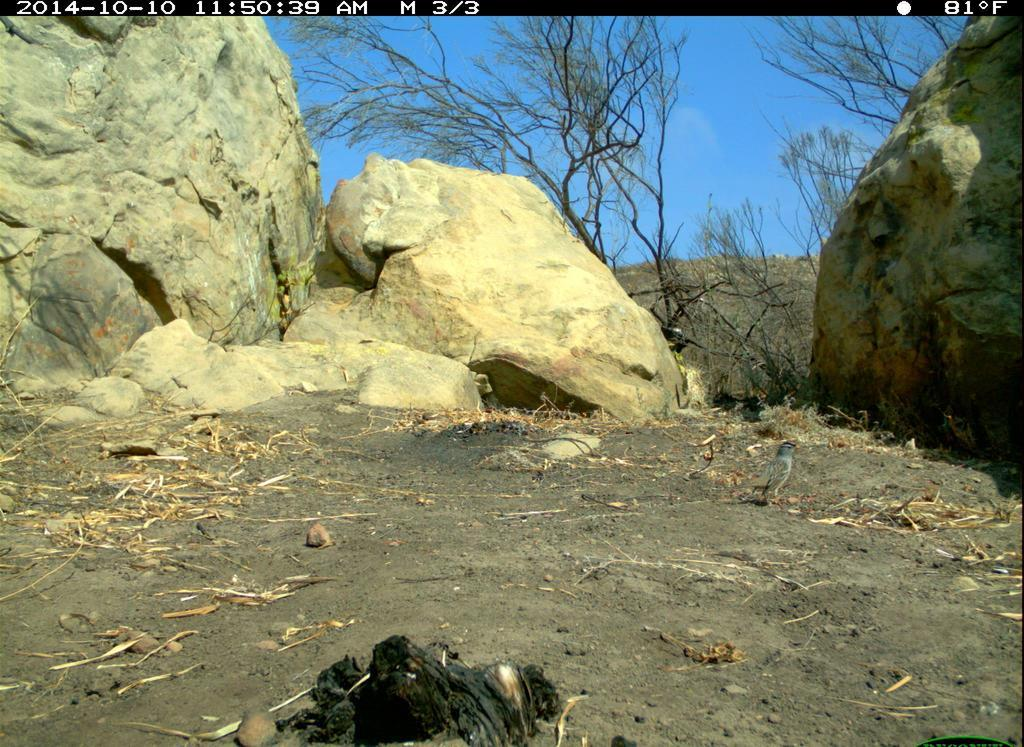bird: (715, 438, 806, 513)
